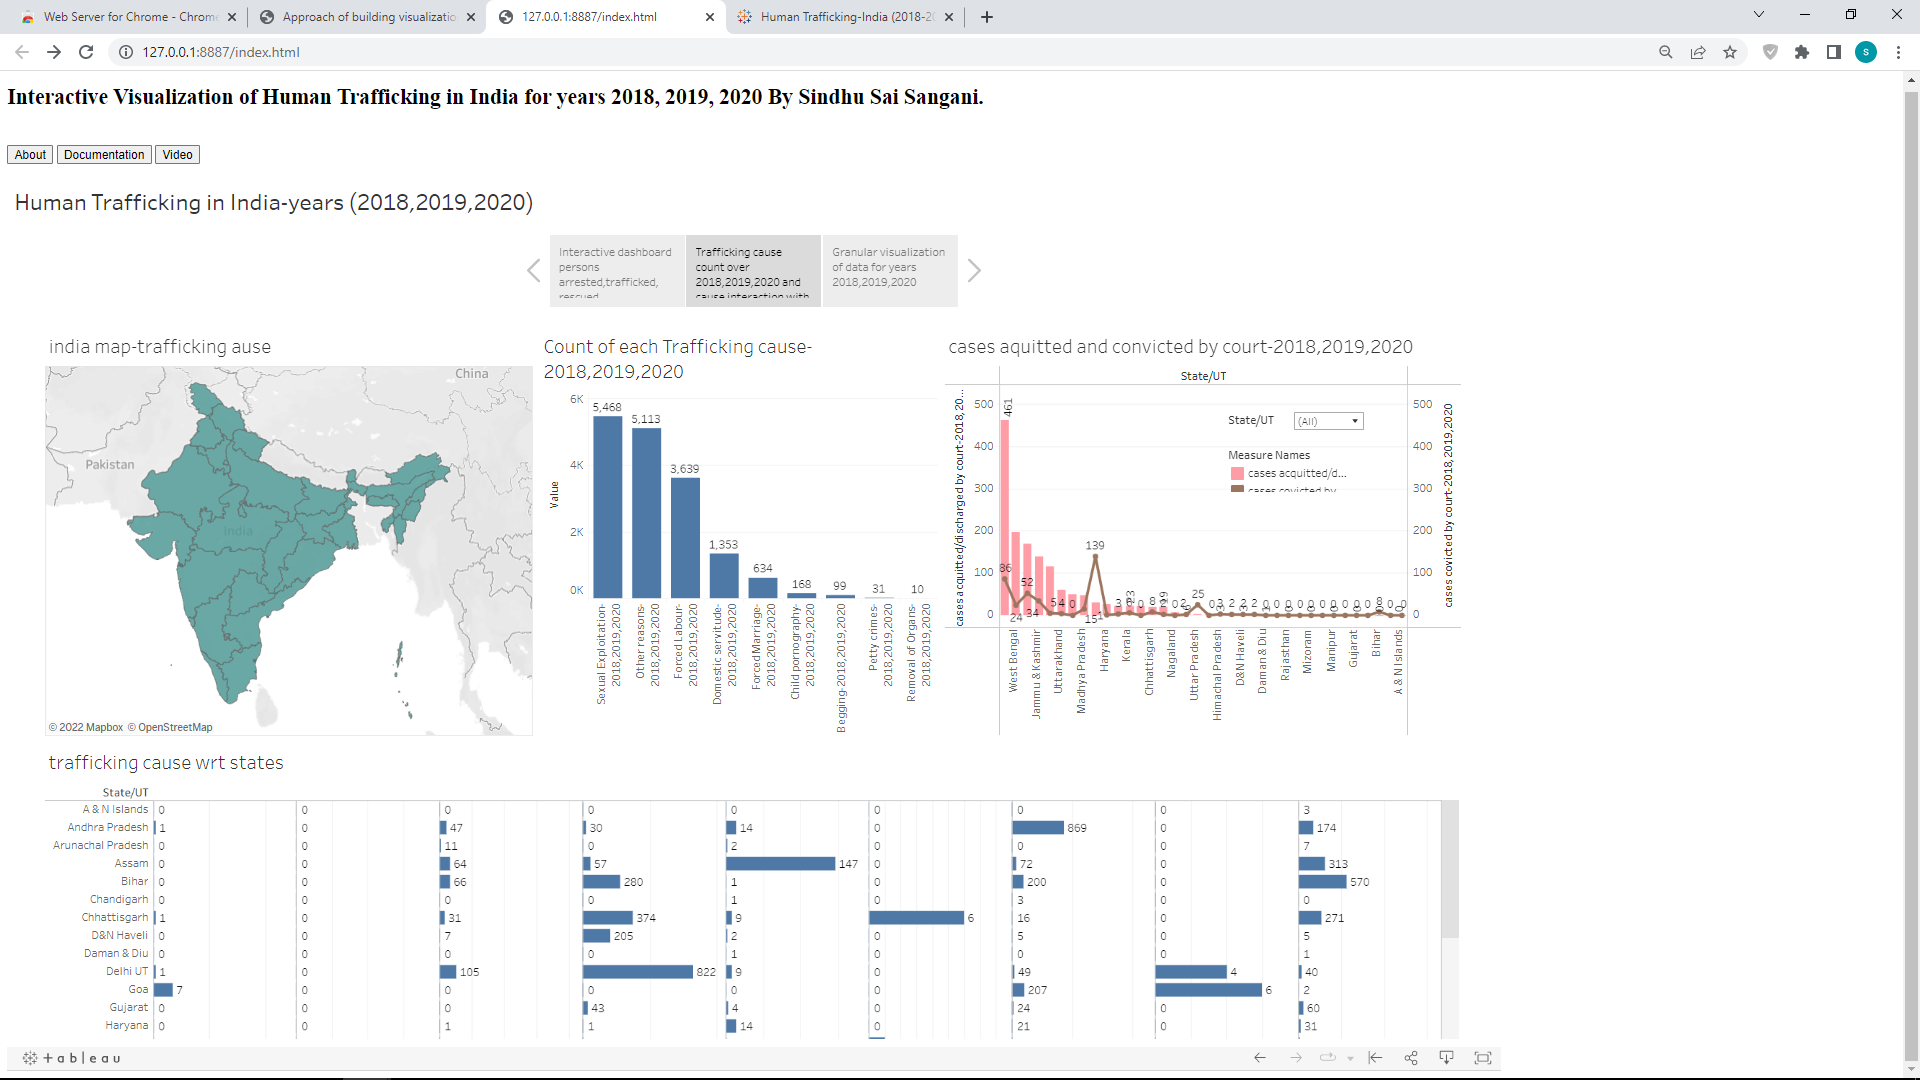

This screenshot's page, from the dashboard's own definition file:
{"tool":"tableau","page":{"name":"Traffickingcause","canvas":[1600,940],"ordinal":2},"visuals":[{"type":"worksheet","title":"india map-trafficking ause","mark":"Multipolygon","box":[8,8,550,462]},{"type":"worksheet","title":"Trafficking cause","mark":"Bar","box":[558,8,450,462]},{"type":"worksheet","title":"cases aquitted and convicted by court-2018,2019,2020","mark":"Automatic","rows":["Calculation_373235858738429952","Calculation_373235858738765825"],"cols":["State/UT"],"box":[1008,8,584,462]},{"type":"filter","title":"Trafficking cause","param":"[federated.0geqzg31s3aejp16zut9q1ccewkb].[none:State/UT:nk]","box":[1323,102,160,39]},{"type":"legend","title":"cases aquitted and convicted by court-2018,2019,2020","param":"[federated.0geqzg31s3aejp16zut9q1ccewkb].[:Measure Names]","box":[1323,141,160,58]},{"type":"worksheet","title":"trafficking cause wrt states","mark":"Automatic","rows":["State/UT"],"cols":["Calculation_589127162496077828","Calculation_589127162496225285","Calculation_589127162497273862","Calculation_589127162497564679","Calculation_589127162497957896","Calculation_589127162498162697","Calculation_589127162498457611","Calculation_589127162498306058","Calculation_589127162498609164"],"box":[8,470,1584,462]}]}

Visuals, with their boxes on the page's 1600x940 design canvas (x1, y1, x2, y2). These are canvas units, not pixel positions in the 1920x1080 screenshot, which may show the page scaled, cropped or inside an application window:
"india map-trafficking ause" worksheet (Multipolygon marks): Rect(8, 8, 558, 470)
"Trafficking cause" worksheet (Bar marks): Rect(558, 8, 1008, 470)
"cases aquitted and convicted by court-2018,2019,2020" worksheet: Rect(1008, 8, 1592, 470)
"Trafficking cause" filter: Rect(1323, 102, 1483, 141)
"cases aquitted and convicted by court-2018,2019,2020" legend: Rect(1323, 141, 1483, 199)
"trafficking cause wrt states" worksheet: Rect(8, 470, 1592, 932)
